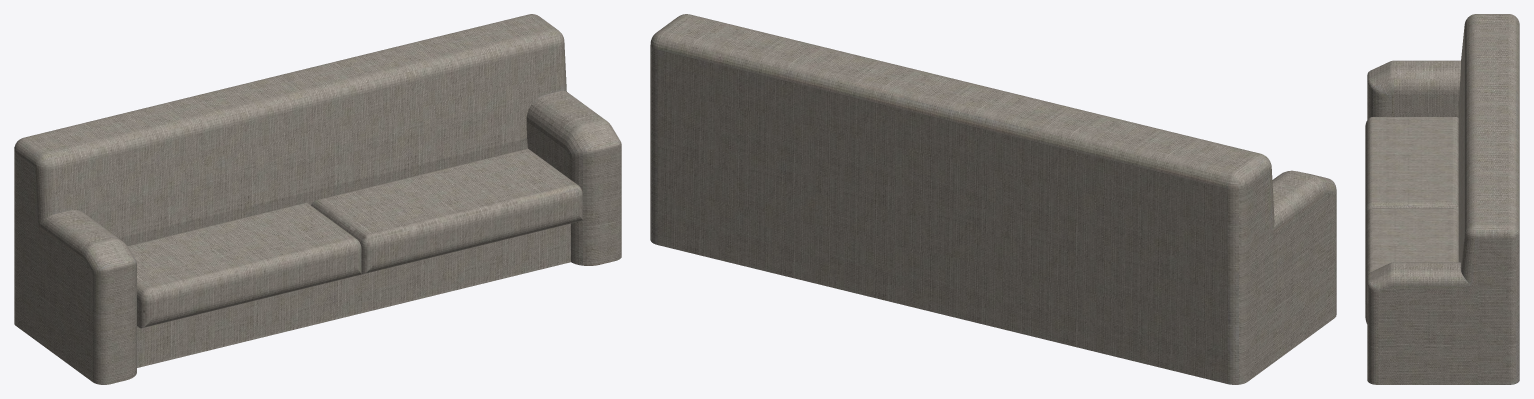
File: couch.glb
The picture shows the model from 3 angles, left to right: view 1: azimuth 30°, elevation 25°; view 2: azimuth 150°, elevation 25°; view 3: azimuth 270°, elevation 25°; orthographic projection. The views are drawn at different scales.
Visible parts, largest first — view 1: Object_2; view 2: Object_2; view 3: Object_2.
Boxes of the visible parts, bbox=[...] form: Object_2: bbox=[14, 14, 621, 384]; Object_2: bbox=[650, 14, 1336, 384]; Object_2: bbox=[1365, 14, 1519, 384].
Size of the model in its own units: 2.88 by 0.9644 by 0.8614.
1 material, 1 textured.
